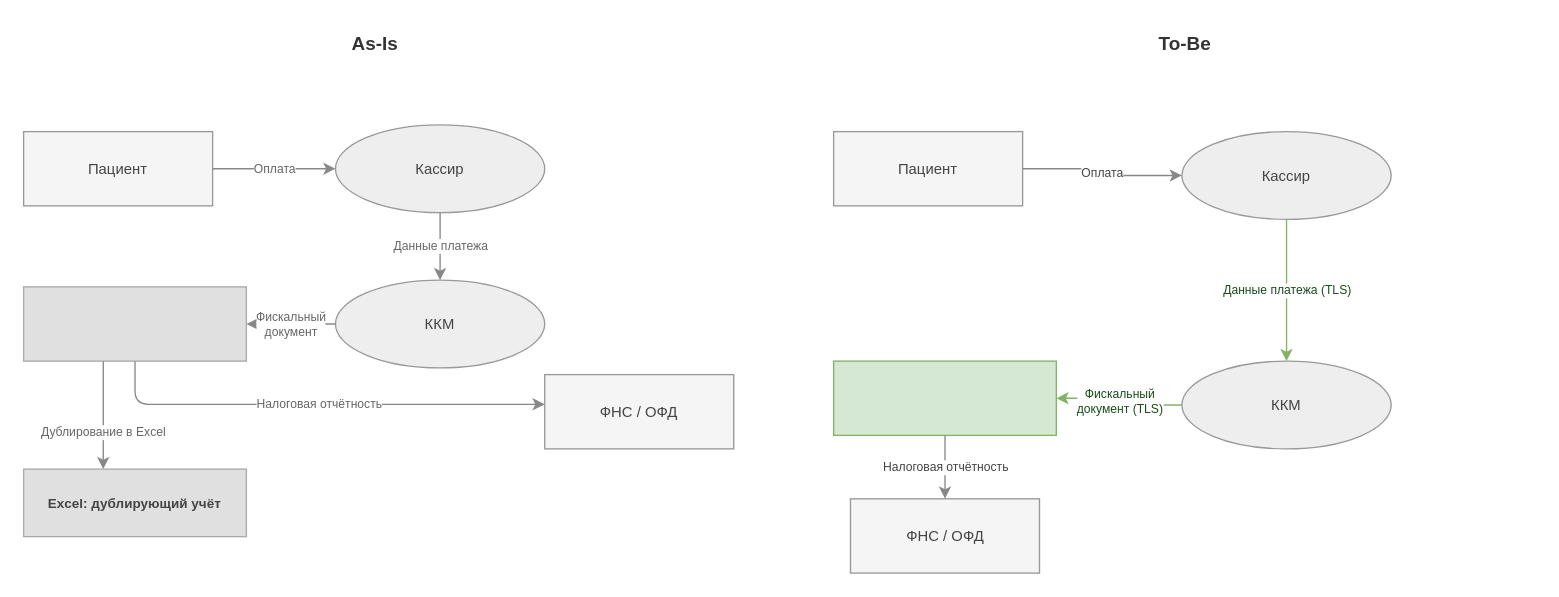
The diagram is 1559 pixels wide and 597 high, and some of its shapes have lost their labels. The shapes that lost their labels are listed below. From the top down, each one's centre as x and y in pixels, then its label:
At pixel 134 323: "1С Бухгалтерия (файловый режим)".
At pixel 944 397: "1С Бухгалтерия (кл.-серверный)".
